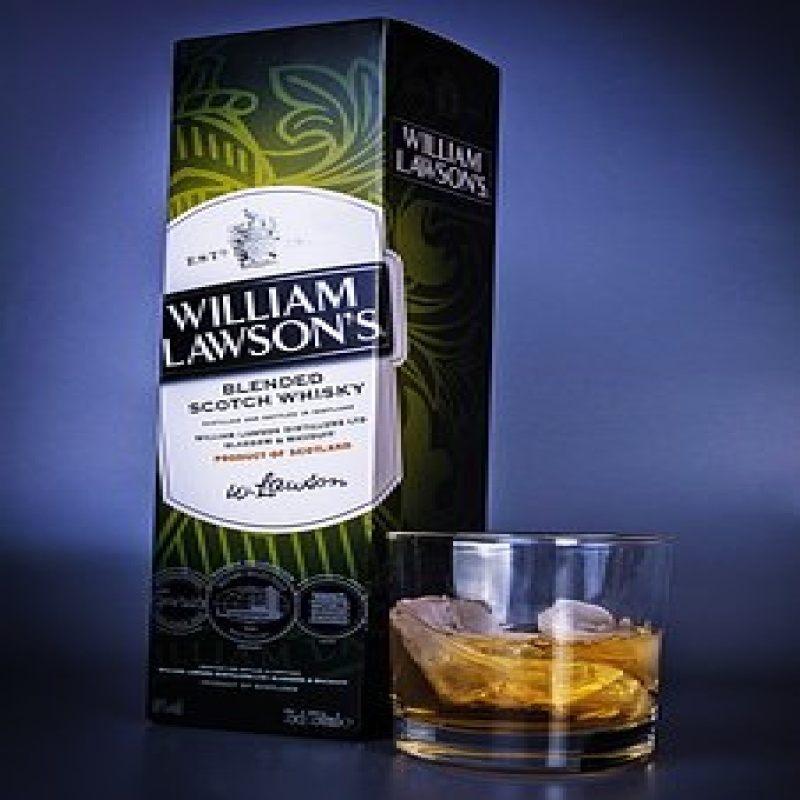whiskey: (373, 525, 664, 775)
